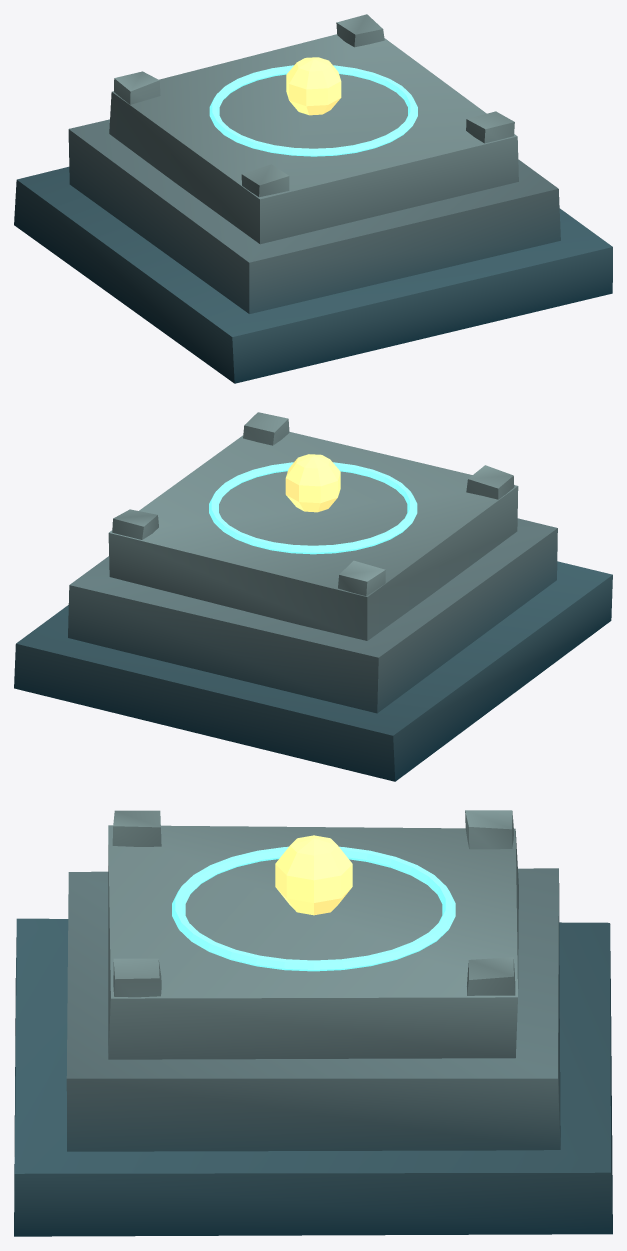
Rendered from ruin_altar.glb.
The picture shows the model from 3 angles, top to bottom: view 1: azimuth 30°, elevation 25°; view 2: azimuth 150°, elevation 25°; view 3: azimuth 270°, elevation 25°; orthographic projection. The views are drawn at different scales.
Parts seen in each view (by area): view 1: ruin_altar_stone, ruin_altar_glow, ruin_altar_warm; view 2: ruin_altar_stone, ruin_altar_glow, ruin_altar_warm; view 3: ruin_altar_stone, ruin_altar_glow, ruin_altar_warm.
Boxes of the visible parts, x1,y1,x2,y2 form: ruin_altar_stone: [14, 14, 612, 383]; ruin_altar_glow: [209, 65, 417, 156]; ruin_altar_warm: [286, 57, 341, 115]; ruin_altar_stone: [14, 412, 612, 781]; ruin_altar_glow: [209, 462, 417, 554]; ruin_altar_warm: [285, 454, 340, 512]; ruin_altar_stone: [14, 810, 612, 1236]; ruin_altar_glow: [172, 846, 455, 971]; ruin_altar_warm: [275, 835, 352, 915].
Size of the model in its own units: 4.41 by 2.21 by 4.41.
